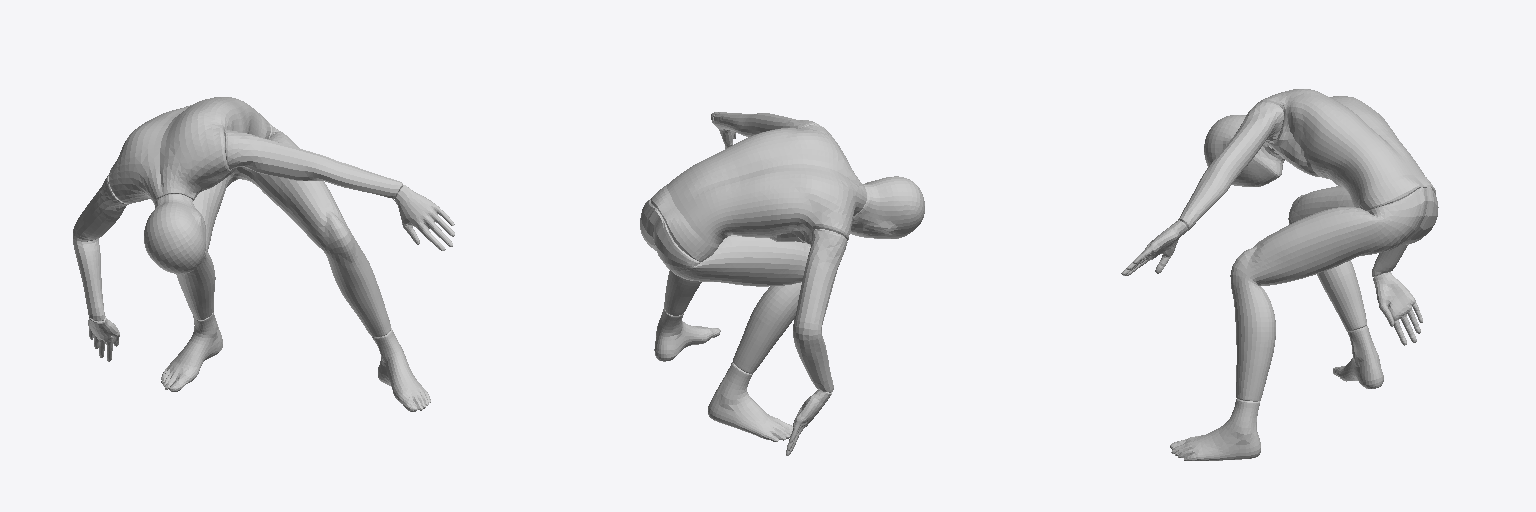
Rendered from standup58.obj.
The picture shows the model from 3 angles: view 1: azimuth 30°, elevation 25°; view 2: azimuth 150°, elevation 25°; view 3: azimuth 270°, elevation 25°; orthographic projection.
Parts seen in each view (by area): view 1: Ch36; view 2: Ch36; view 3: Ch36.
Part boxes in pixels (x1,y1,x2,y2): Ch36: (73, 97, 454, 411); Ch36: (640, 112, 924, 455); Ch36: (1121, 89, 1438, 460).
Bounding box in the file's own units: 0.8417 × 0.8813 × 0.8818.